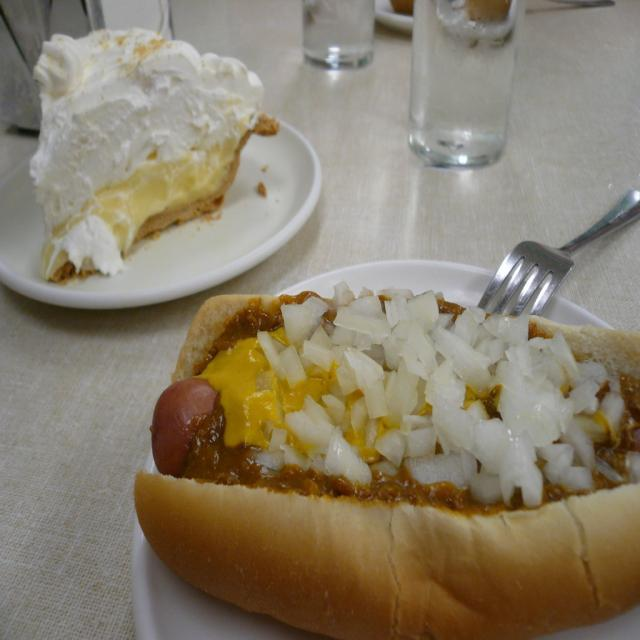Hot dog: (121, 249, 640, 621)
